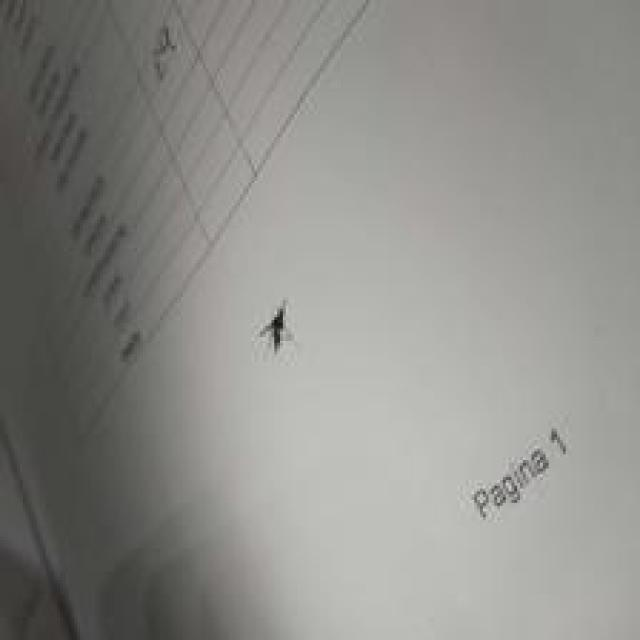Aedes albopictus: (257, 297, 294, 354)
